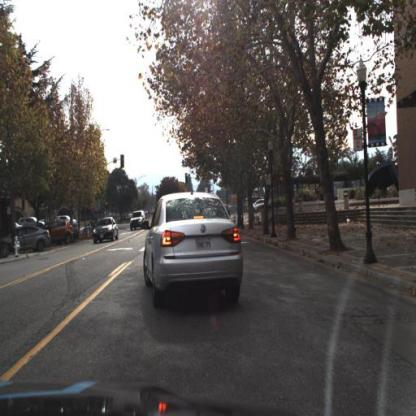car: (139, 187, 247, 311), (15, 224, 53, 251), (16, 224, 49, 253), (51, 218, 74, 247), (95, 217, 118, 246), (46, 223, 75, 245), (129, 211, 147, 234), (130, 210, 148, 233), (251, 197, 269, 214)
pedestrian: (292, 195, 297, 235)
trafficLight-Red: (185, 172, 190, 187)
